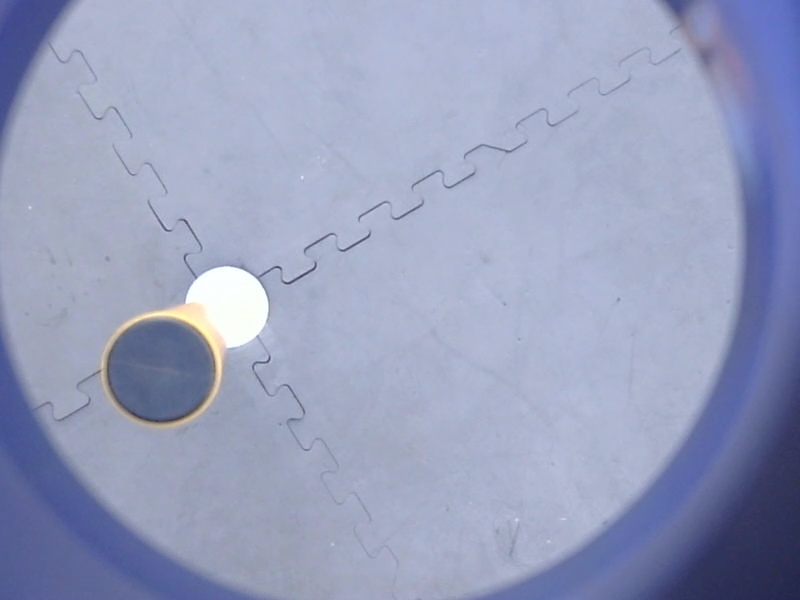tip: (93, 301, 230, 437)
